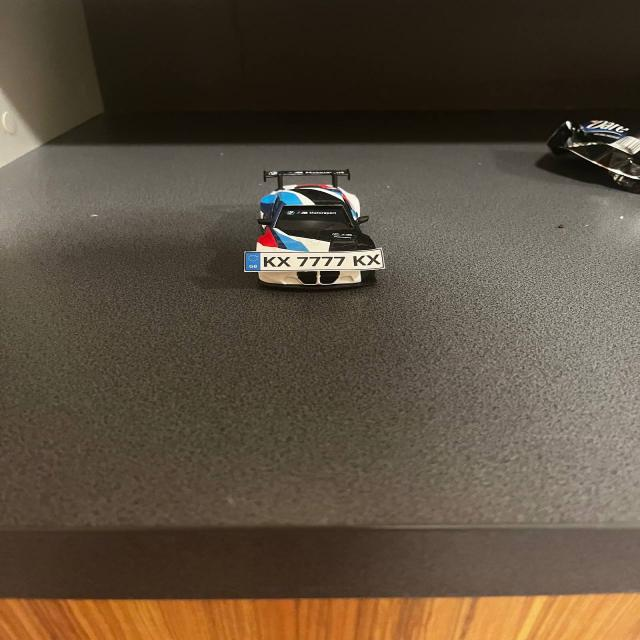cars: (236, 162, 396, 297)
